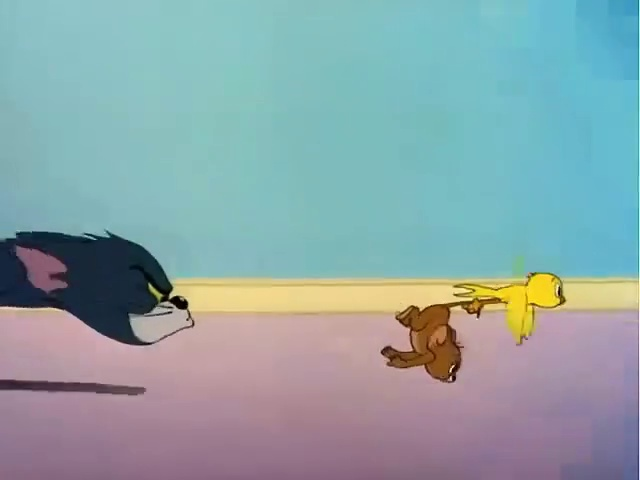jerry: (369, 271, 491, 401)
